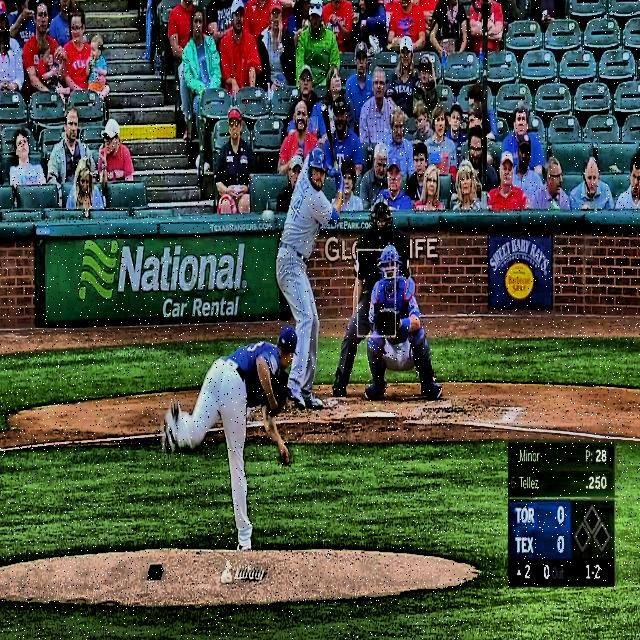baseball: (262, 209, 274, 222)
